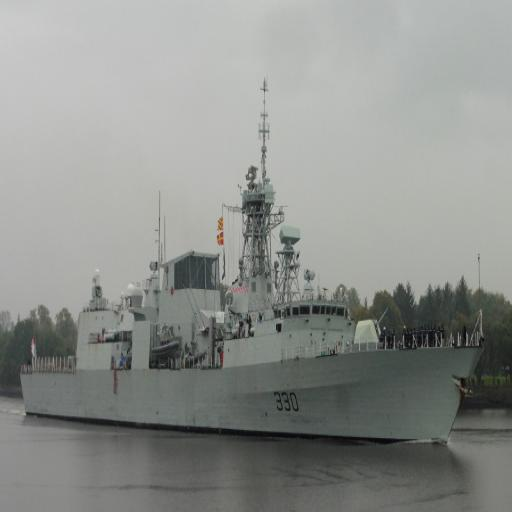Fragata: (19, 79, 488, 449)
